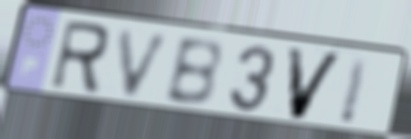3: (225, 43, 277, 115)
B: (161, 36, 225, 109)
I: (336, 54, 373, 127)
R: (46, 18, 113, 99)
V: (284, 44, 347, 122), (116, 26, 176, 101)
